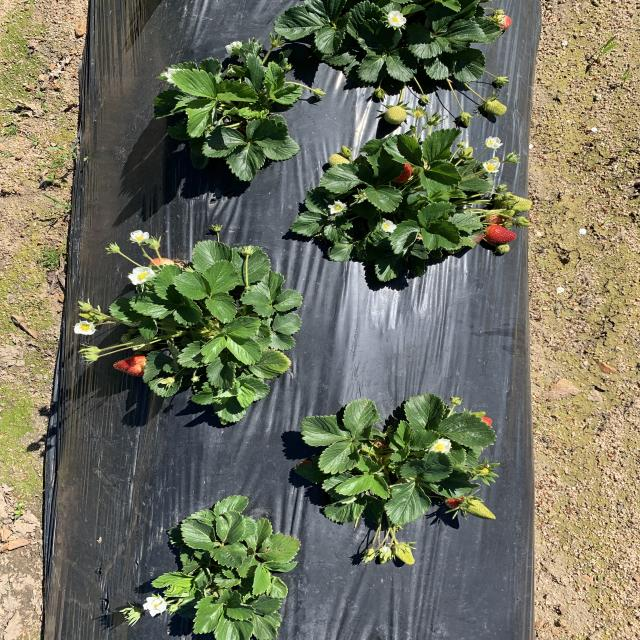unripe: (111, 353, 151, 378), (382, 160, 417, 187), (483, 226, 519, 246), (467, 413, 494, 432), (439, 493, 467, 511)
